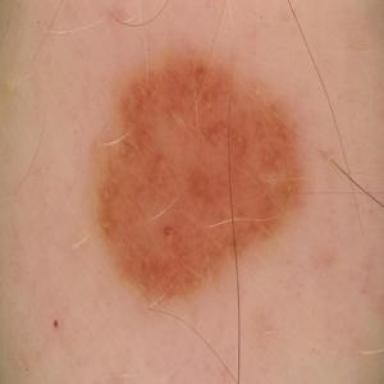Melanoma: (102, 61, 295, 299)
